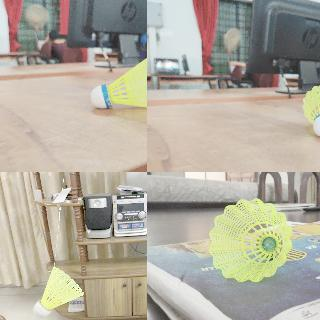shuttlecock: (209, 198, 291, 282), (90, 54, 146, 109), (33, 267, 83, 317), (301, 83, 319, 137)
